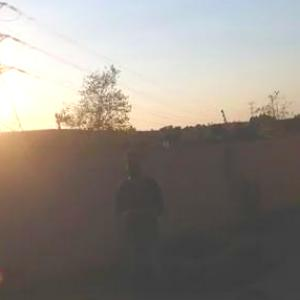follow: (110, 143, 171, 299)
